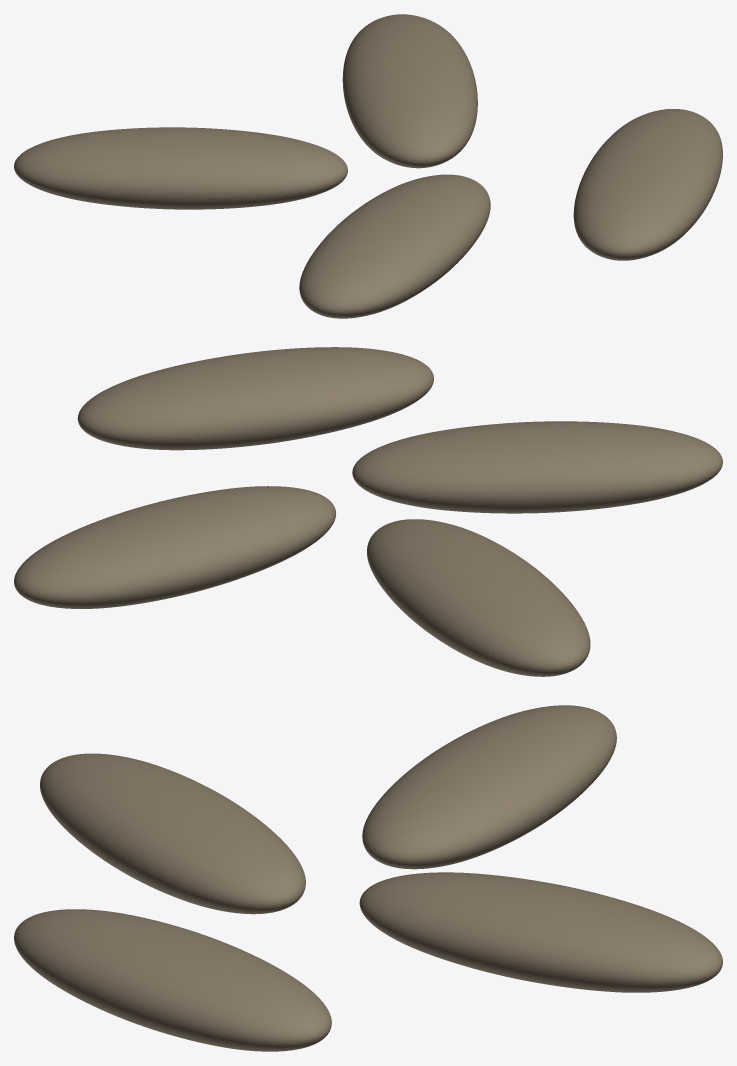
File: seeds-1.fbx
3 views of the same model, one above another, from view 1: azimuth 30°, elevation 25°; view 2: azimuth 150°, elevation 25°; view 3: azimuth 270°, elevation 25° (orthographic). The views are drawn at different scales.
Visible parts, largest first — view 1: Cube, Cube.003, Cube.002, Cube.001; view 2: Cube.003, Cube.002, Cube.001, Cube; view 3: Cube.001, Cube.002, Cube.003, Cube.
Part boxes in pixels (bbox=[...]): Cube: bbox=[14, 127, 347, 209]; Cube.003: bbox=[299, 174, 490, 318]; Cube.002: bbox=[573, 109, 722, 260]; Cube.001: bbox=[342, 14, 477, 168]; Cube.003: bbox=[352, 421, 722, 513]; Cube.002: bbox=[77, 347, 433, 450]; Cube.001: bbox=[14, 486, 336, 608]; Cube: bbox=[367, 519, 590, 676]; Cube.001: bbox=[359, 872, 722, 992]; Cube.002: bbox=[14, 909, 331, 1051]; Cube.003: bbox=[40, 753, 305, 914]; Cube: bbox=[362, 705, 616, 869].
Size of the model in its own units: 60.01 by 5.74 by 54.72.
